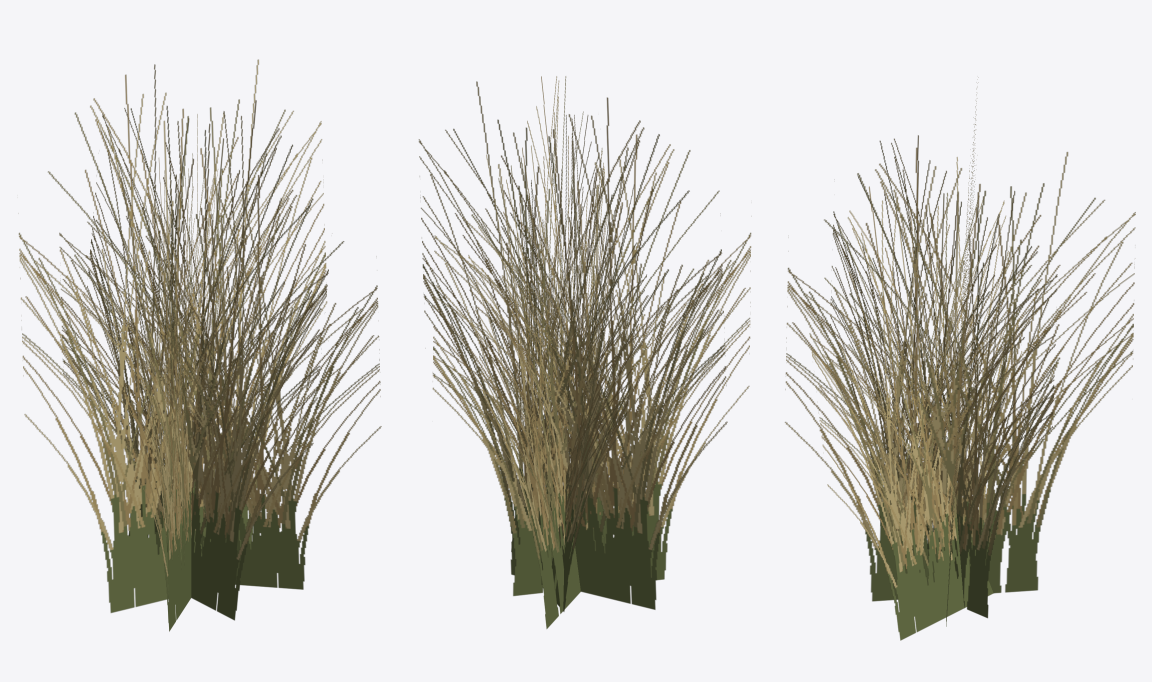
The model's file is desert_grass.glb.
The picture shows the model from 3 angles, left to right: view 1: azimuth 30°, elevation 25°; view 2: azimuth 150°, elevation 25°; view 3: azimuth 270°, elevation 25°; orthographic projection. The views are drawn at different scales.
Parts seen in each view (by area): view 1: desert_grass; view 2: desert_grass; view 3: desert_grass.
Part boxes in pixels (x1=…): desert_grass: x1=18, y1=59, x2=381, y2=631; desert_grass: x1=418, y1=76, x2=751, y2=628; desert_grass: x1=785, y1=77, x2=1135, y2=640.
Bounding box in the file's own units: 0.5331 × 0.8865 × 0.5608.
Materials: 1 (1 with a texture image).
